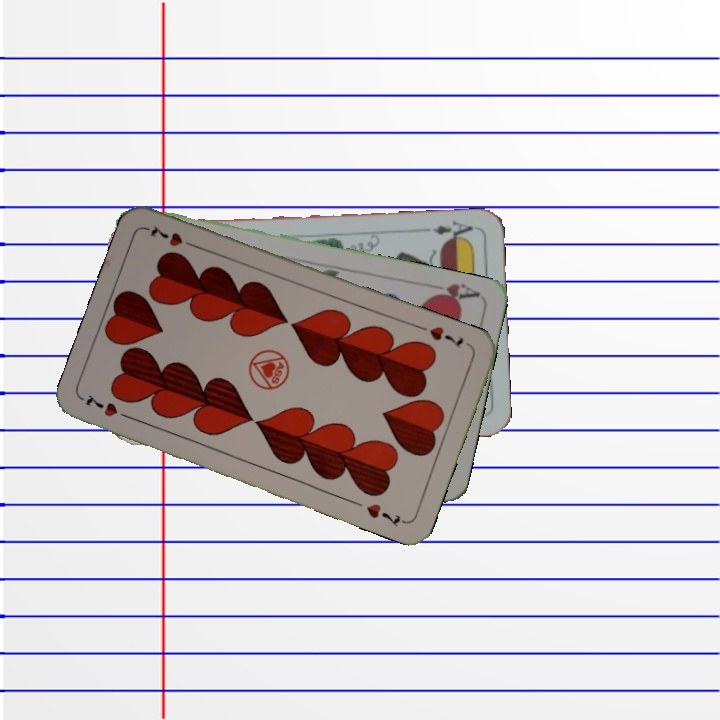EA: (429, 217, 476, 243)
H7: (81, 390, 136, 423), (425, 322, 467, 351)
HA: (423, 279, 482, 306)
